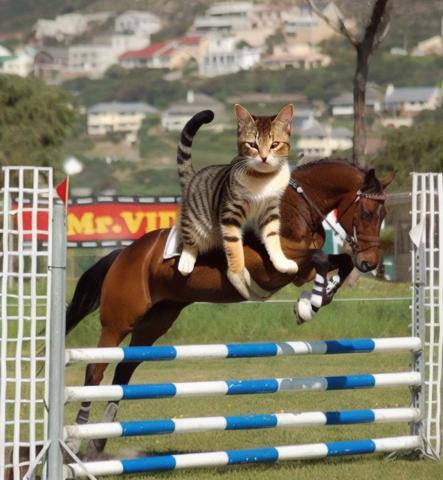cat: (174, 101, 299, 272)
horse: (65, 156, 401, 459)
